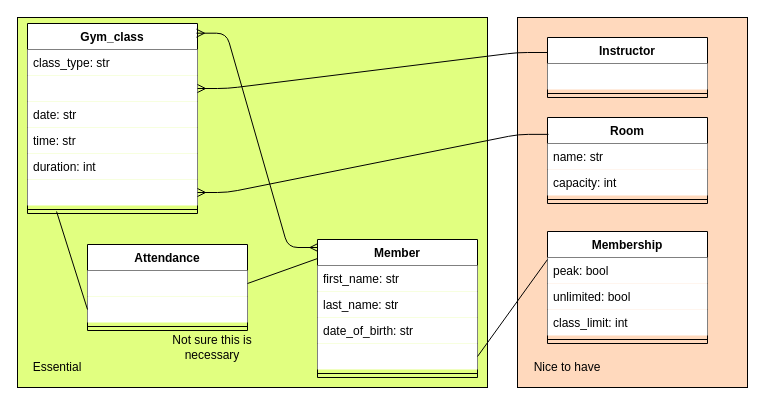
The diagram is 765 pixels wide and 405 high, and some of its shapes have lost their labels. Each missing label, with the centre of its shape:
class: Class(): [167,309]
instructor: Instructor(): [112,88]
location: Room(): [112,192]
member: Member(): [167,283]
membership: str: [397,356]
name: int: [627,76]
